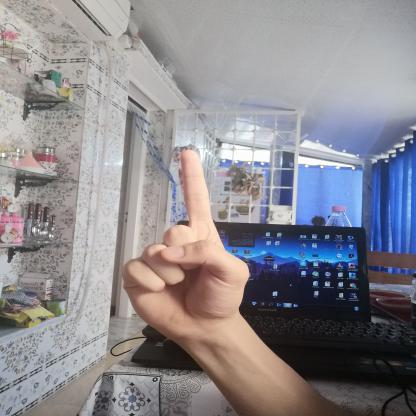BAA: (108, 135, 263, 352)
